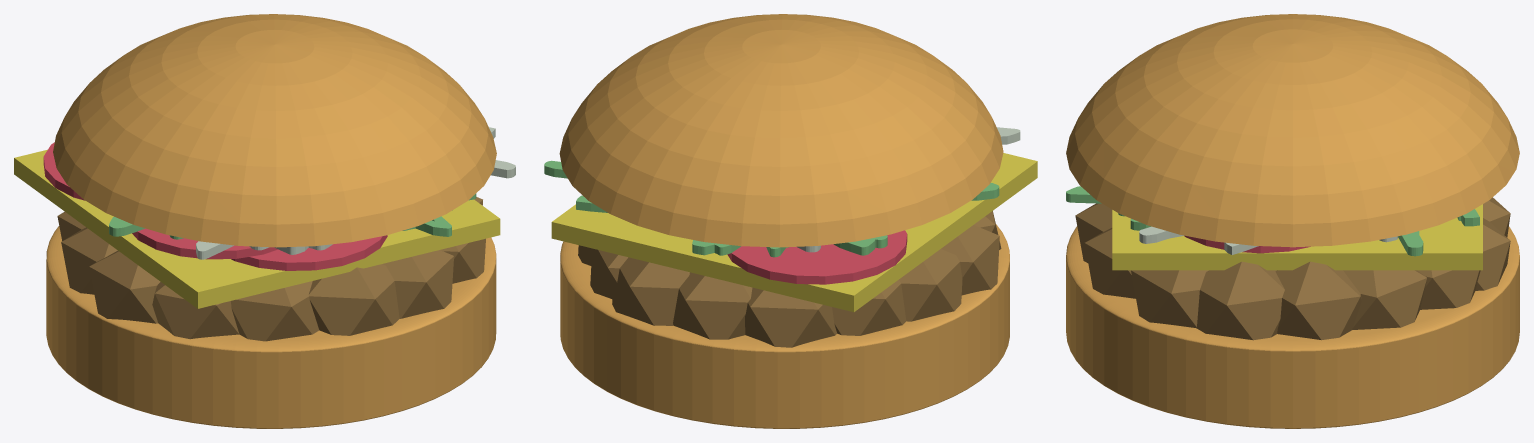
The model's file is hambrugrer.glb.
3 renders of one model, left to right at view 1: azimuth 30°, elevation 25°; view 2: azimuth 150°, elevation 25°; view 3: azimuth 270°, elevation 25°, orthographic.
Visible parts, largest first — view 1: Mesh_Mesh_head_geo.001_lambert2SG.001; view 2: Mesh_Mesh_head_geo.001_lambert2SG.001; view 3: Mesh_Mesh_head_geo.001_lambert2SG.001.
Part boxes in pixels (x1,y1,x2,y2): Mesh_Mesh_head_geo.001_lambert2SG.001: (14, 14, 515, 428); Mesh_Mesh_head_geo.001_lambert2SG.001: (544, 14, 1037, 428); Mesh_Mesh_head_geo.001_lambert2SG.001: (1066, 14, 1519, 428).
Bounding box in the file's own units: 49 × 35 × 49.
